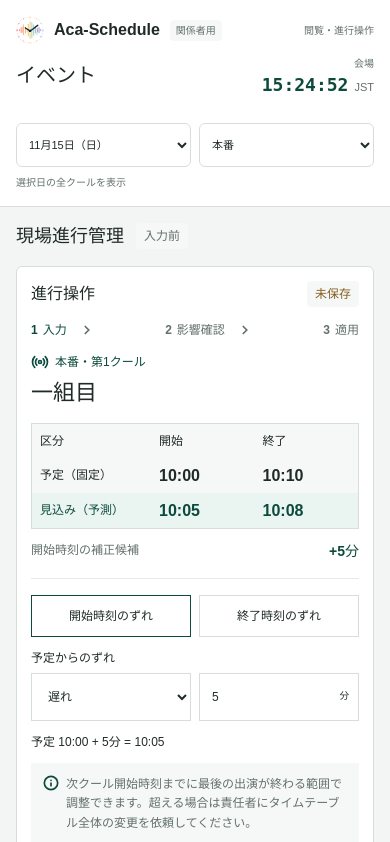
it: prefills the current offset separately for start and end when editing again
Expected: the number field named "予定からのずれ（分）" holds "5", [199, 673, 359, 721]
Expected: the dropdown named "ずれの方向" shows "遅れ", [31, 673, 191, 721]
Click the button "終了時刻のずれ". click: coordinates (279, 616)
box: [199, 595, 359, 637]
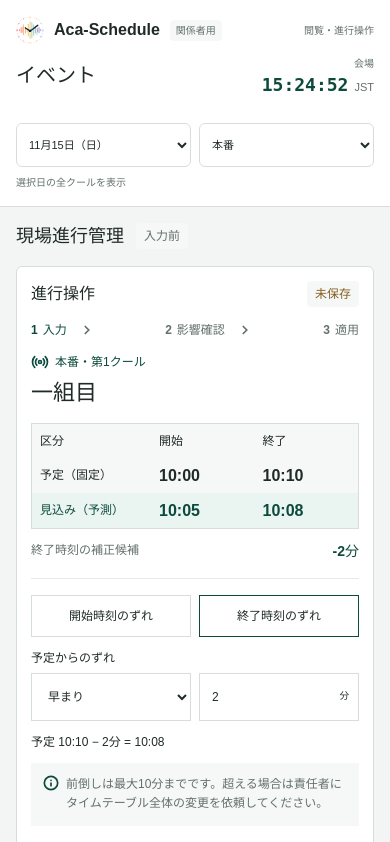
Now the number field named "予定からのずれ（分）" holds "2"
Now the dropdown named "ずれの方向" shows "早まり", box [31, 673, 191, 721]
Replace the text in the number field named "予定からのずれ（分）" with "4". click: coordinates (279, 697)
box: [199, 673, 359, 721]
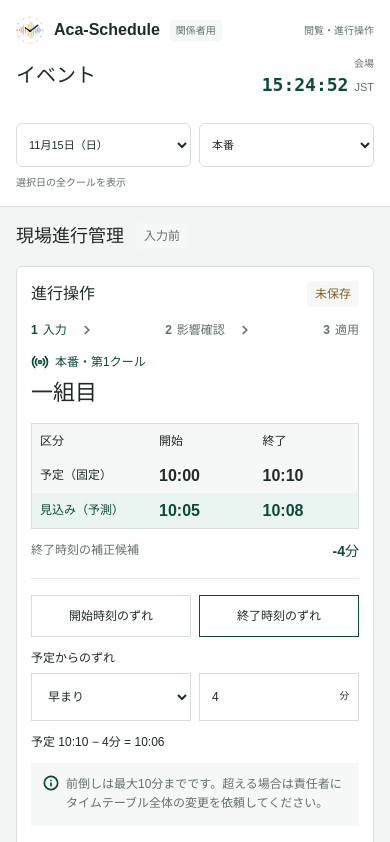
Click the button "開始時刻のずれ". click: coordinates (111, 616)
box: [31, 595, 191, 637]
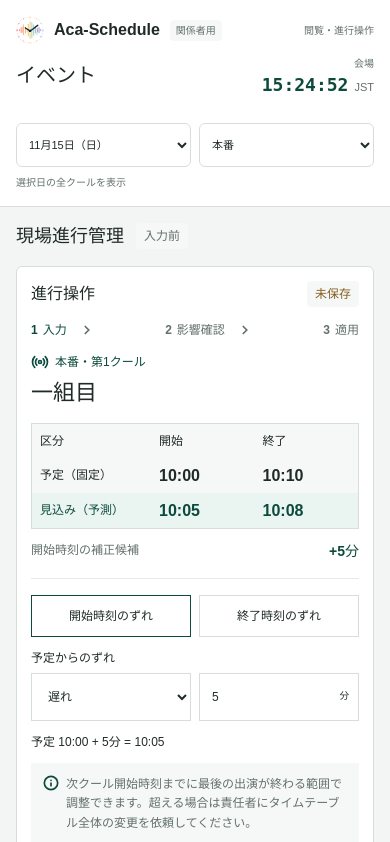
Now the number field named "予定からのずれ（分）" holds "5", box [199, 673, 359, 721]
Now the dropdown named "ずれの方向" shows "遅れ", box [31, 673, 191, 721]
